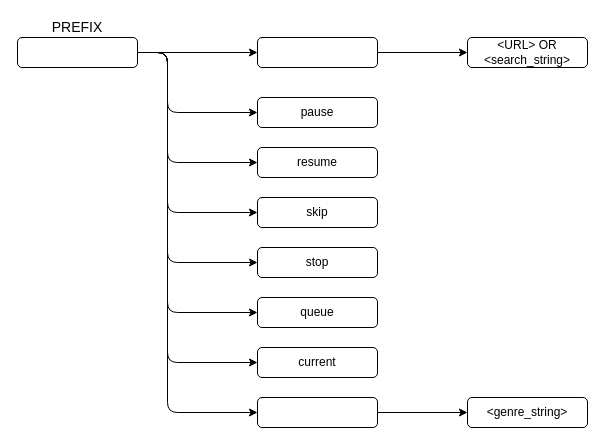
This 605x445 diagram has some shape labels left out. The shapes that lost their labels are listed below. From the top down, each one's centre as x and y in pixels, then its label:
(x=77, y=52): ?music
(x=317, y=52): play
(x=317, y=412): shuffle
